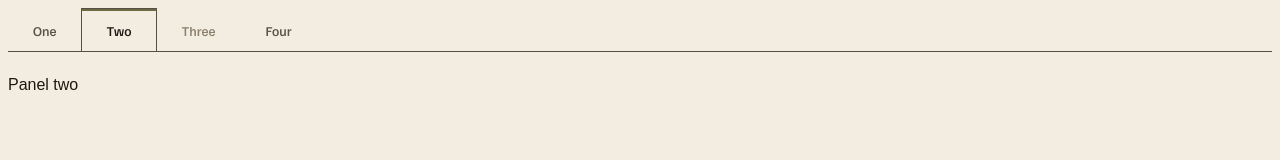
Tabs › is controlled when value is given
This screenshot has width=1280, height=160.
Check: the panel reads "Panel two", box [8, 76, 78, 93]
Click the tab "One": point(45, 30) [8, 8, 81, 52]
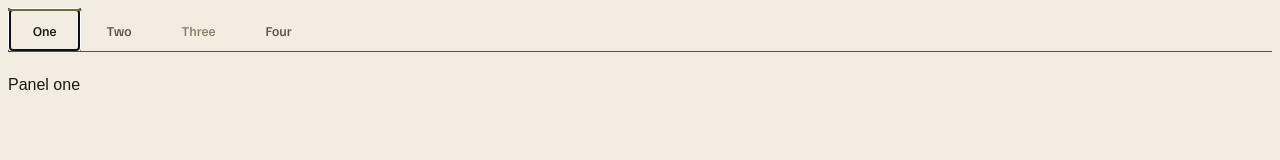
Check: the panel reads "Panel one", box [8, 76, 80, 93]
